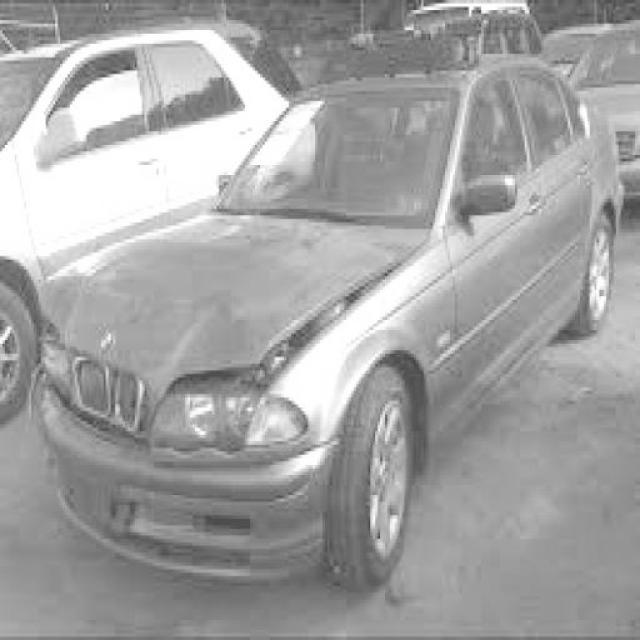car damage: (167, 250, 412, 396), (41, 280, 198, 436)
